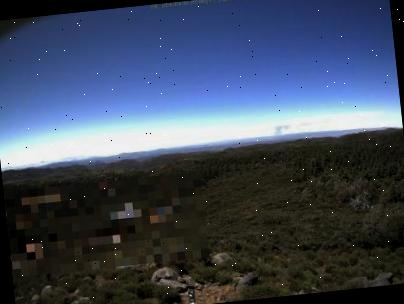smoke: (272, 122, 296, 141)
